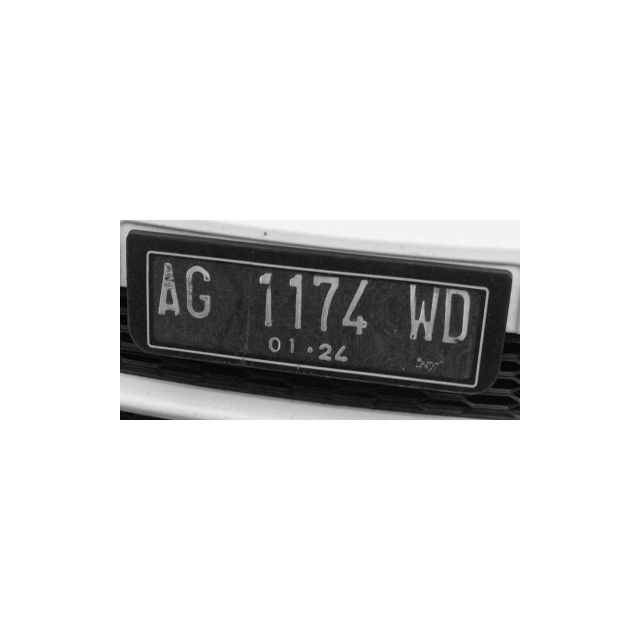contain: (410, 280, 442, 346), (183, 261, 215, 323), (247, 267, 280, 327), (313, 268, 343, 332), (442, 285, 471, 350), (153, 261, 182, 325), (276, 271, 306, 328), (339, 277, 366, 340)
